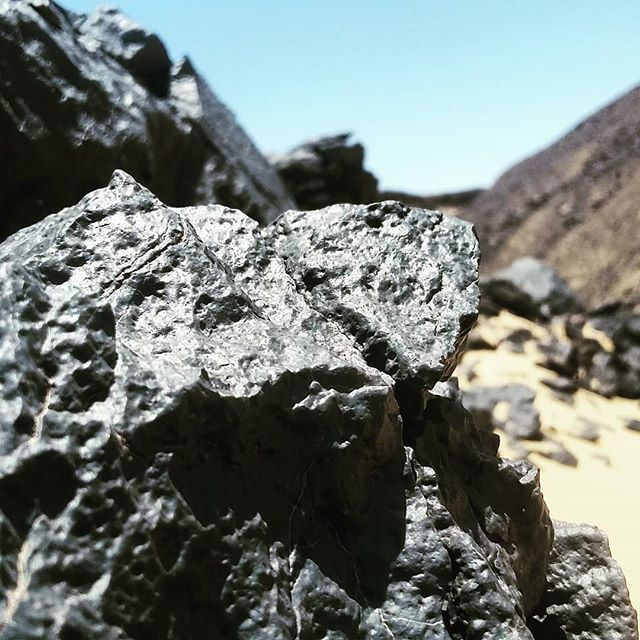volcanic_rock: (1, 209, 456, 638), (1, 83, 223, 199)
